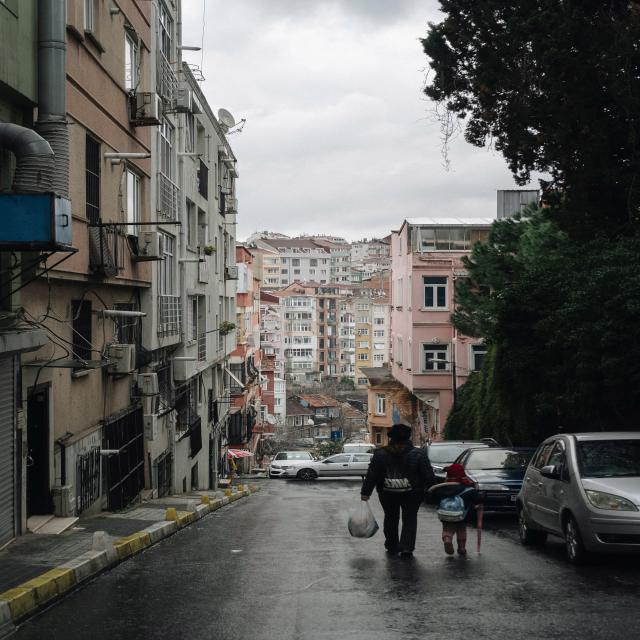adult: (361, 424, 432, 556)
child: (440, 464, 481, 555)
